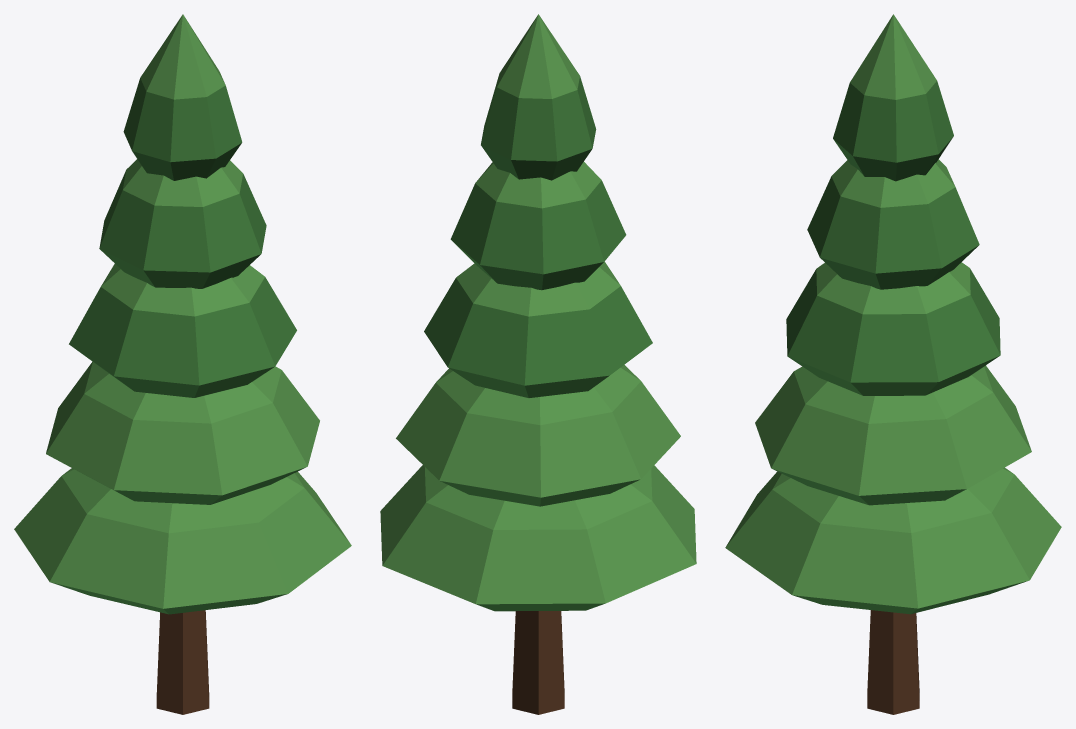
Rendered from tree_pineRoundF.glb.
3 renders of one model, left to right at view 1: azimuth 30°, elevation 25°; view 2: azimuth 150°, elevation 25°; view 3: azimuth 270°, elevation 25°, orthographic.
Parts seen in each view (by area): view 1: tree_pineRoundF; view 2: tree_pineRoundF; view 3: tree_pineRoundF.
Boxes of the visible parts, x1,y1,x2,y2 form: tree_pineRoundF: [14, 14, 351, 714]; tree_pineRoundF: [380, 14, 696, 714]; tree_pineRoundF: [725, 14, 1061, 714].
Size of the model in its own units: 0.5541 by 1.25 by 0.5541.
Materials: 1 (1 with a texture image).
